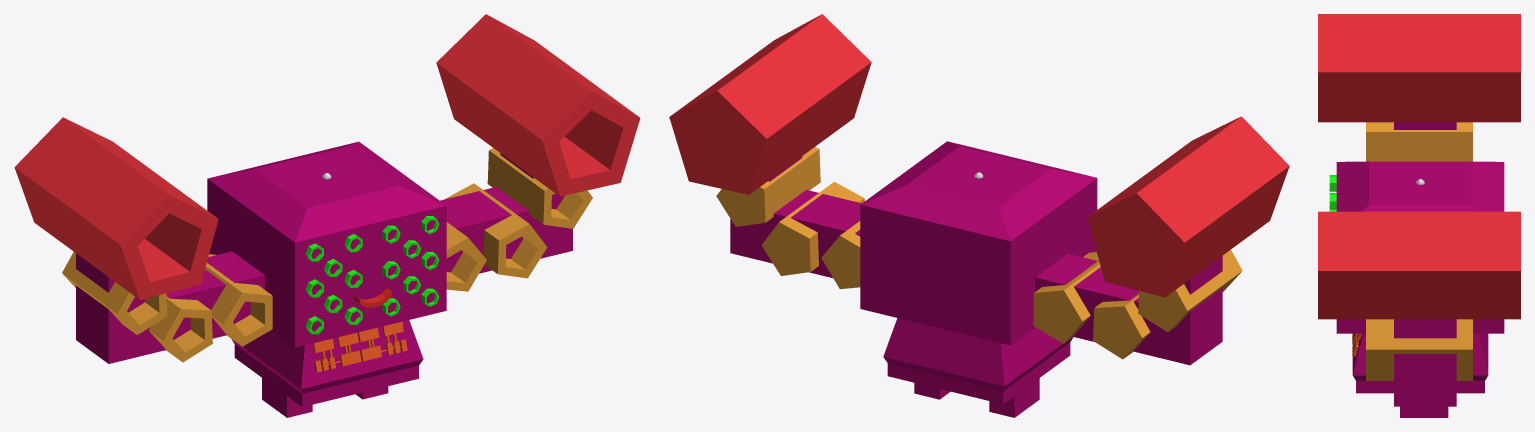
Rendered from boss.glb.
3 renders of one model, left to right at view 1: azimuth 30°, elevation 25°; view 2: azimuth 150°, elevation 25°; view 3: azimuth 270°, elevation 25°, orthographic. The views are drawn at different scales.
Parts seen in each view (by area): view 1: MainObject, BigGuns, Smallguns, Missiles, BodyDecoration; view 2: MainObject, BigGuns, Smallguns; view 3: BigGuns, MainObject, Smallguns, Missiles.
Boxes of the visible parts, bbox=[...] form: MainObject: bbox=[76, 141, 572, 417]; BigGuns: bbox=[14, 14, 640, 299]; Smallguns: bbox=[62, 148, 592, 362]; Missiles: bbox=[305, 216, 439, 334]; BodyDecoration: bbox=[313, 322, 407, 372]; MainObject: bbox=[730, 141, 1222, 417]; BigGuns: bbox=[669, 14, 1289, 297]; Smallguns: bbox=[716, 147, 1242, 359]; BigGuns: bbox=[1318, 14, 1520, 319]; MainObject: bbox=[1336, 122, 1504, 417]; Smallguns: bbox=[1366, 122, 1472, 380]; Missiles: bbox=[1329, 175, 1336, 211].
Size of the model in its own units: 77.28 by 41.72 by 27.27.
